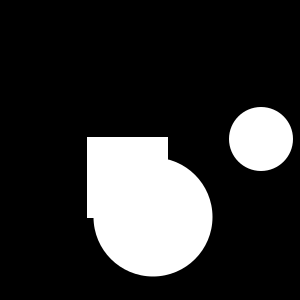circle: (87, 137, 168, 218)
rectangle: (94, 158, 212, 276), (229, 107, 293, 171)
